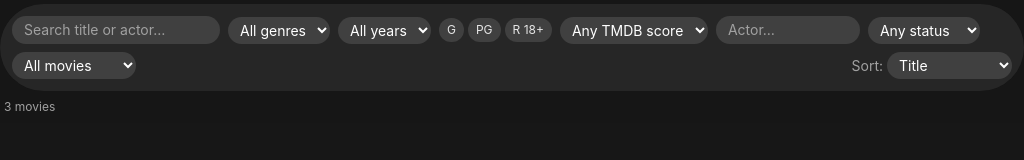
Scenario: FilterBar › filters actors by typed name and only shows Clear when filters are active
Step 1. Type "keanu" into the search field with test id "filter-actor" → (788, 30), box [716, 16, 860, 44]
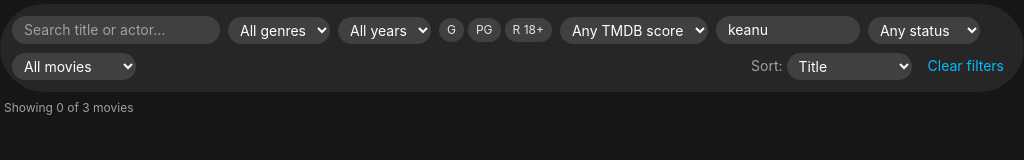
Now the button with test id "filter-clear" is shown, box [920, 52, 1012, 80]
